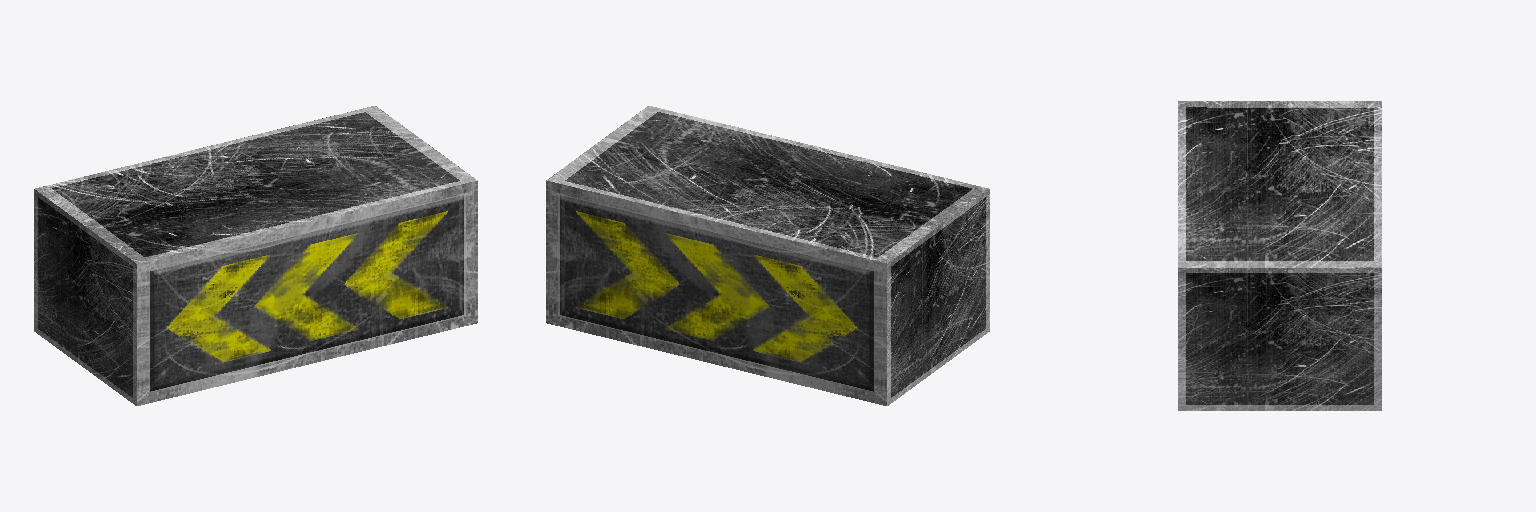
3 views of the same model, side by side, from view 1: azimuth 30°, elevation 25°; view 2: azimuth 150°, elevation 25°; view 3: azimuth 270°, elevation 25° (orthographic).
Parts seen in each view (by area): view 1: Mesh1 Model; view 2: Mesh1 Model; view 3: Mesh1 Model.
Part boxes in pixels (x1,y1,x2,y2): Mesh1 Model: (34, 106, 477, 405); Mesh1 Model: (546, 106, 989, 405); Mesh1 Model: (1178, 101, 1381, 410).
Bounding box in the file's own units: 2.5 × 1 × 1.3.
Materials: 1 (1 with a texture image).